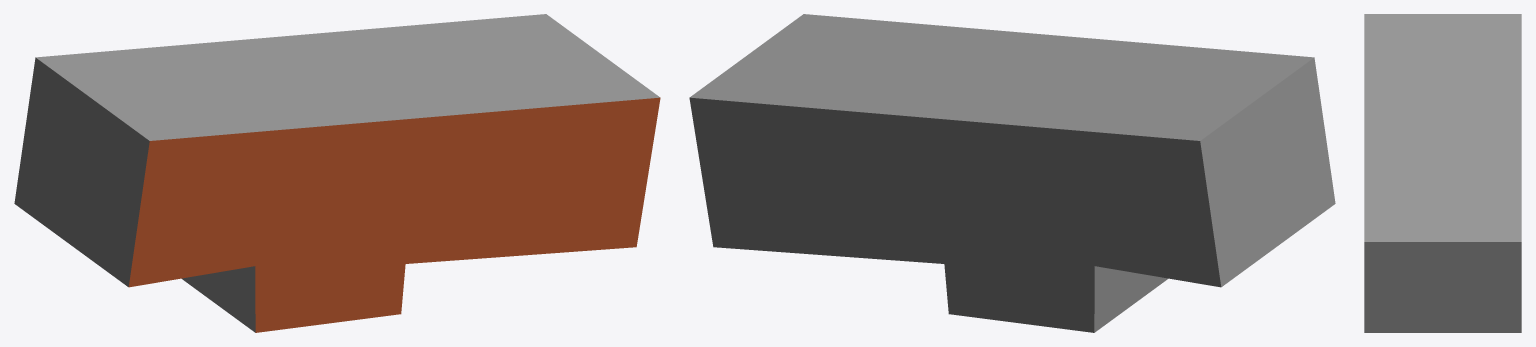
Rendered from construction_5144_assumed_A_Casa_h6m.obj.
3 views of the same model, side by side, from view 1: azimuth 30°, elevation 25°; view 2: azimuth 150°, elevation 25°; view 3: azimuth 270°, elevation 25° (orthographic). The views are drawn at different scales.
Parts seen in each view (by area): view 1: construction_5144_assumed_A_Casa; view 2: construction_5144_assumed_A_Casa; view 3: construction_5144_assumed_A_Casa.
Part boxes in pixels (x1=…): construction_5144_assumed_A_Casa: x1=14, y1=14, x2=660, y2=332; construction_5144_assumed_A_Casa: x1=689, y1=14, x2=1335, y2=332; construction_5144_assumed_A_Casa: x1=1364, y1=14, x2=1521, y2=332.
Size of the model in its own units: 16.12 by 6.79 by 6.
